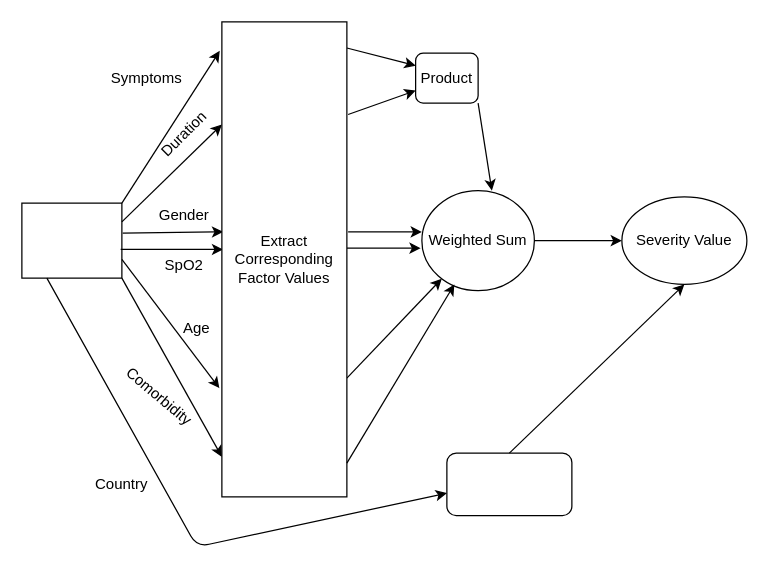
This 769x579 diagram has some shape labels left out. Here are the shapes that lost their labels. From the top down, the centre of each, then its label:
At [71,240]: "User".
At [509,484]: "Fatality Rate of Country".
